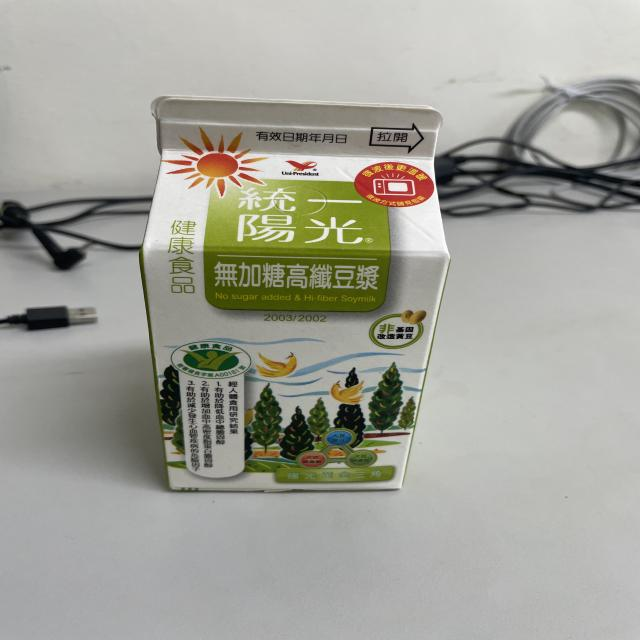TongYi_UnsweetenedHighFiberSoyMilk: (136, 91, 455, 502)
